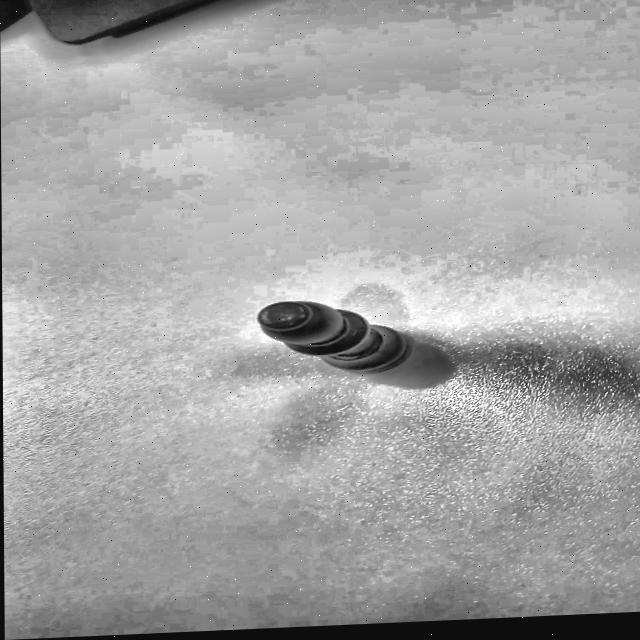black-bishop: (246, 292, 418, 381)
